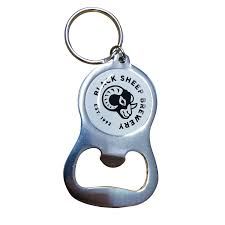bottleopener: (62, 7, 160, 207)
